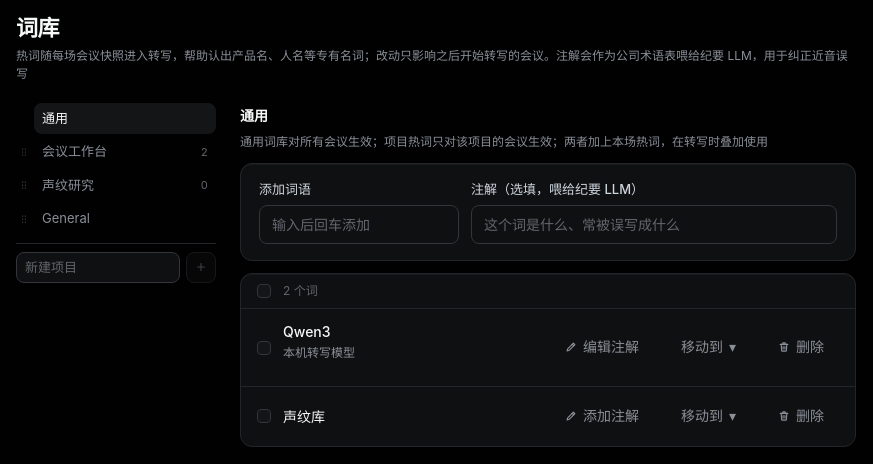
词库页 › 切到项目范围后换数据源：只显示该项目的热词
Expected: the text "Qwen3" is shown, [283,323,331,340]
Click the button "会议工作台 2" at (125, 152), box [34,136,216,168]
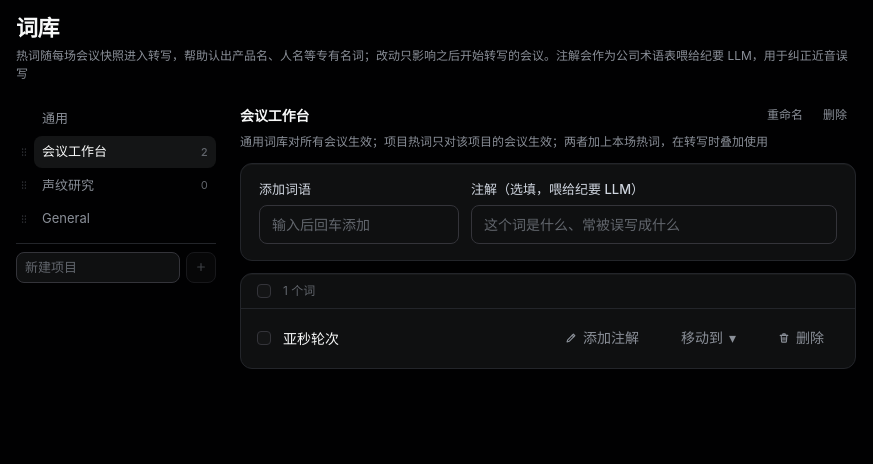
Now the text "亚秒轮次" is shown, box [283,330,339,347]
Now the text "Qwen3" is gone
